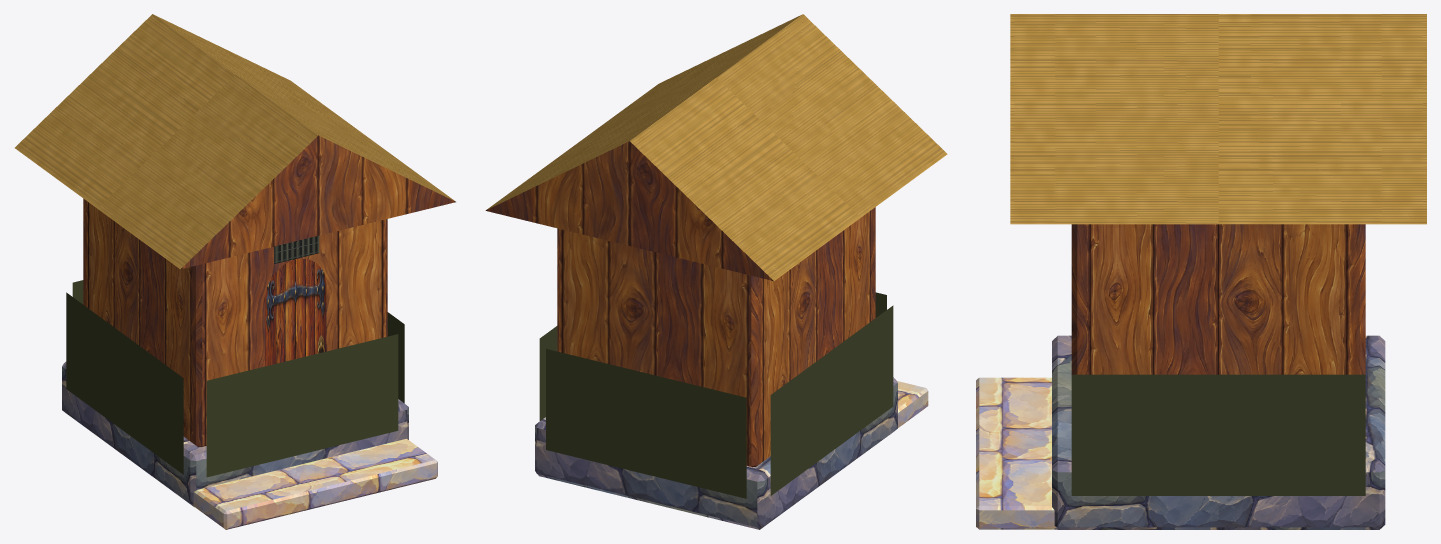
File: Outhouse.fbx
The picture shows the model from 3 angles, left to right: view 1: azimuth 30°, elevation 25°; view 2: azimuth 150°, elevation 25°; view 3: azimuth 270°, elevation 25°; orthographic projection. The views are drawn at different scales.
Visible parts, largest first — view 1: Main roof.004, Ground floor.004, Weathered wall foot.016, Weathered wall foot.018, Doorstep.002, Stone footing.004, Entrance door.002, Privy ventilation, Weathered wall foot.017; view 2: Main roof.004, Ground floor.004, Weathered wall foot.019, Weathered wall foot.018, Stone footing.004, Doorstep.002, Weathered wall foot.017; view 3: Main roof.004, Ground floor.004, Weathered wall foot.017, Stone footing.004, Doorstep.002.
Boxes of the visible parts, box(x1,y1,x2,y2) form: Main roof.004: box(15, 14, 455, 269); Ground floor.004: box(83, 198, 387, 447); Weathered wall foot.016: box(206, 334, 398, 477); Weathered wall foot.018: box(66, 292, 183, 474); Doorstep.002: box(193, 438, 437, 529); Stone footing.004: box(62, 361, 408, 506); Entrance door.002: box(265, 258, 326, 366); Privy ventilation: box(274, 235, 319, 263); Weathered wall foot.017: box(387, 312, 404, 403); Main roof.004: box(485, 14, 947, 280); Ground floor.004: box(557, 207, 875, 467); Weathered wall foot.019: box(546, 349, 746, 498); Weathered wall foot.018: box(770, 305, 893, 495); Stone footing.004: box(535, 377, 897, 529); Doorstep.002: box(897, 381, 928, 427); Weathered wall foot.017: box(539, 326, 557, 420); Main roof.004: box(1010, 14, 1426, 224); Ground floor.004: box(1071, 224, 1365, 374); Weathered wall foot.017: box(1071, 374, 1365, 495); Stone footing.004: box(1052, 335, 1385, 529); Doorstep.002: box(976, 377, 1056, 529).
Bounding box in the file's own units: 245 × 305 × 276.
